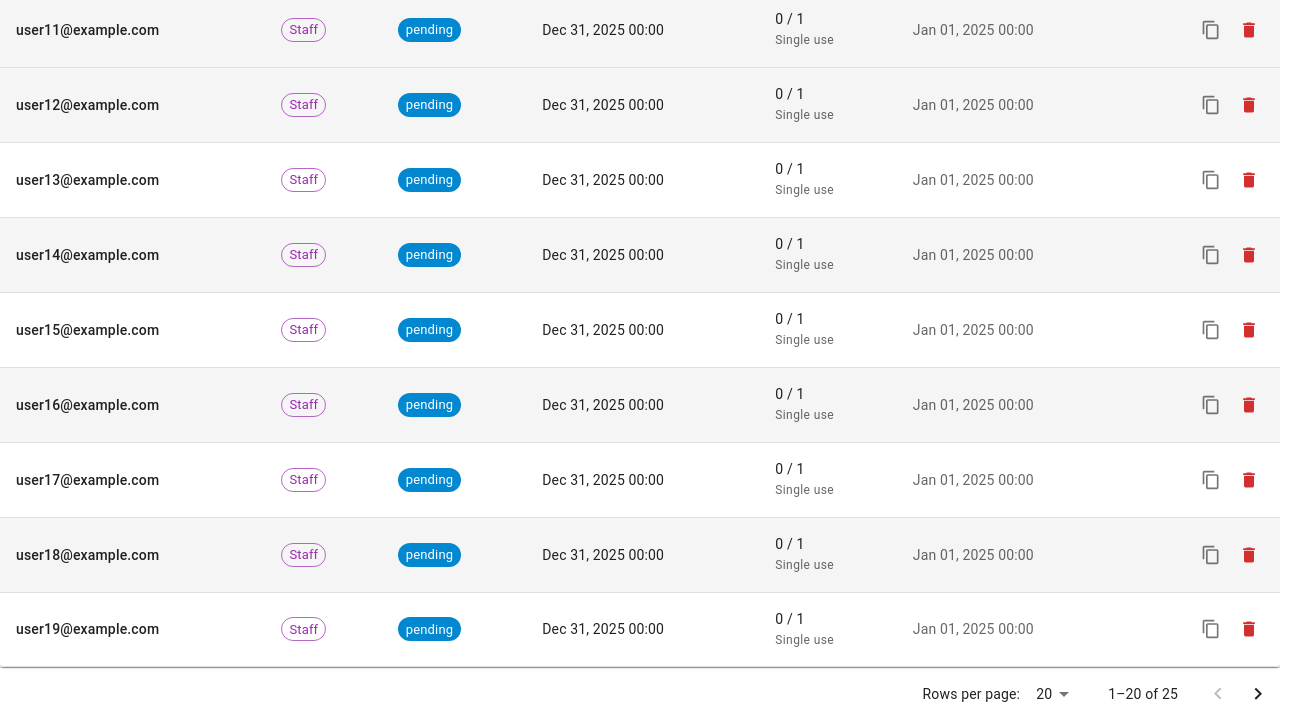
Scenario: InviteList › Pagination › should change rows per page
(page scrolled)
Click the dropdown named "rows per page". click: (1044,694)
box: [1036,686,1052,702]
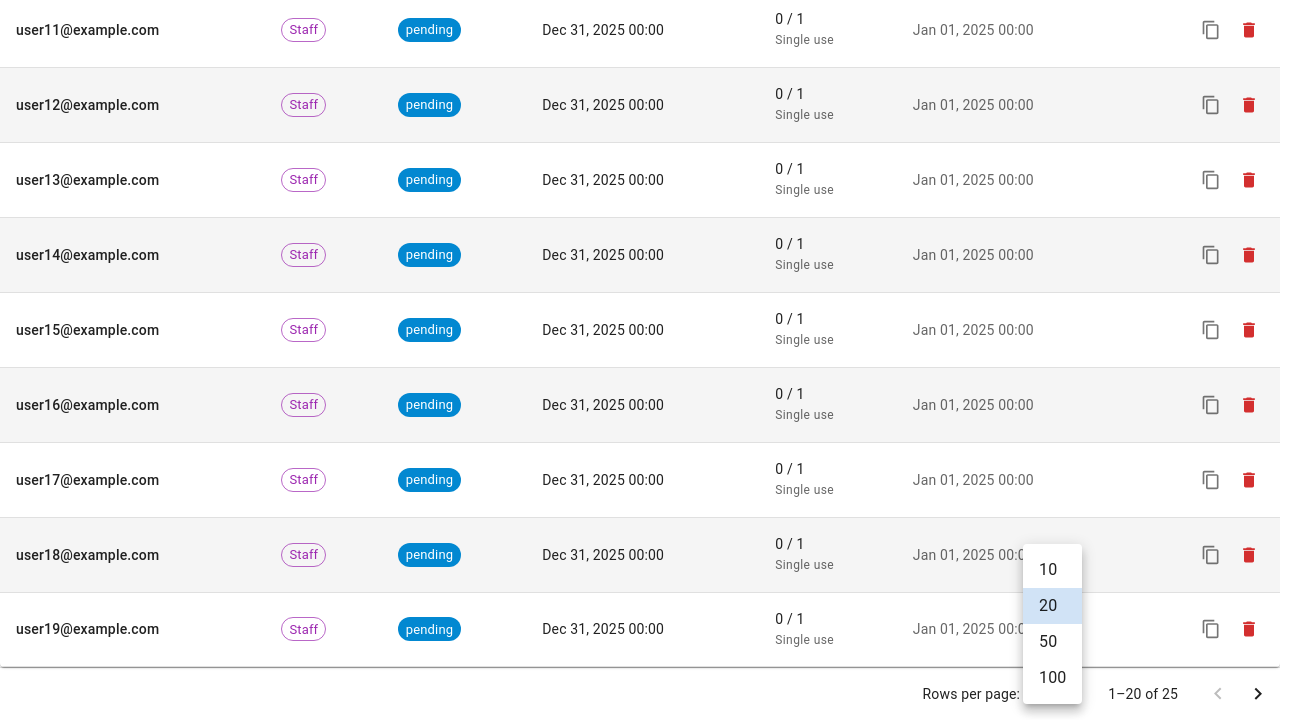
Click the option "10". click: (1048,570)
box: [1039,560,1057,579]
(page scrolled)
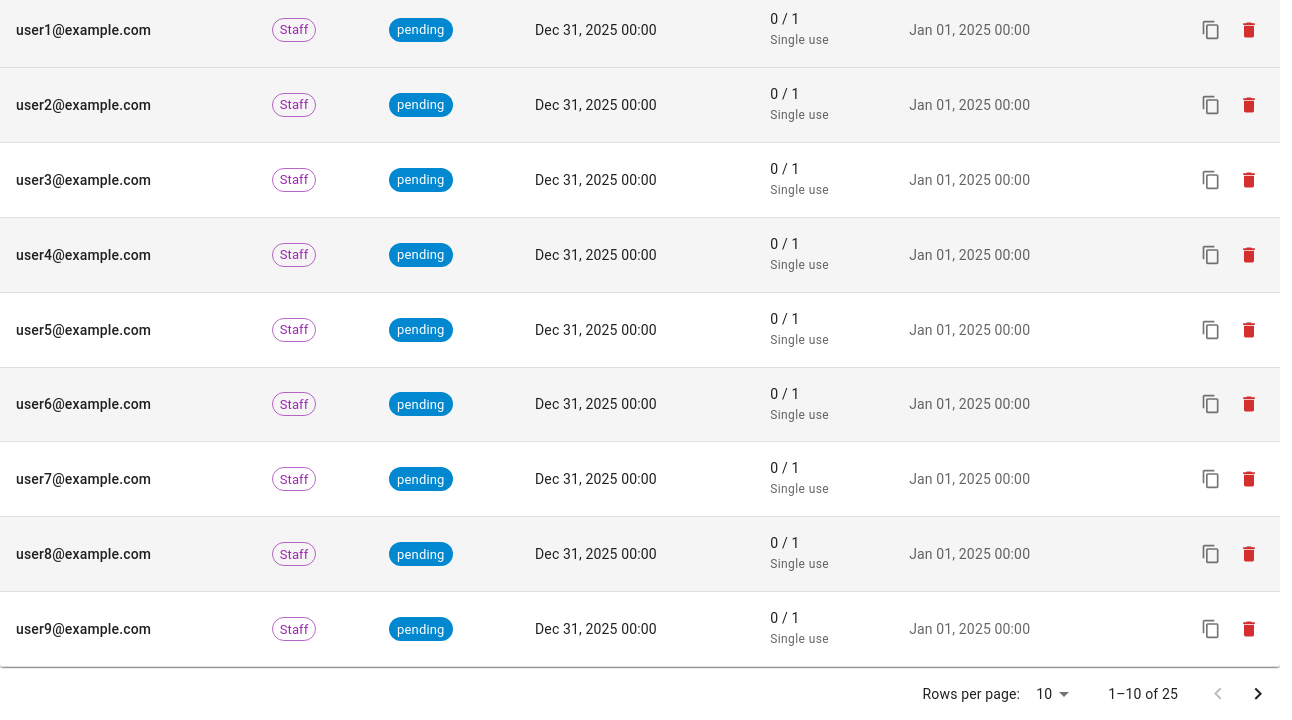
Expected: the text "1–10 of 25" is shown, [1108,684,1178,704]
